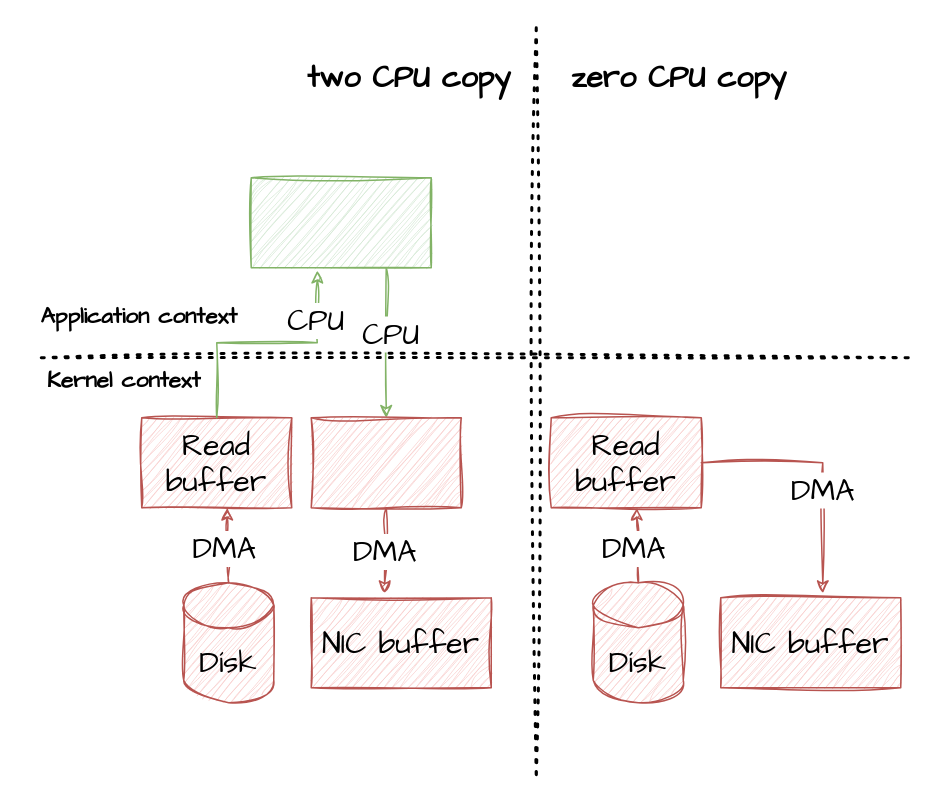
This 939x806 diagram has some shape labels left out. The centre of each missing label's shape, as x and y in pixels:
Application buffer: point 340,222
Socket buffer: point 385,462
